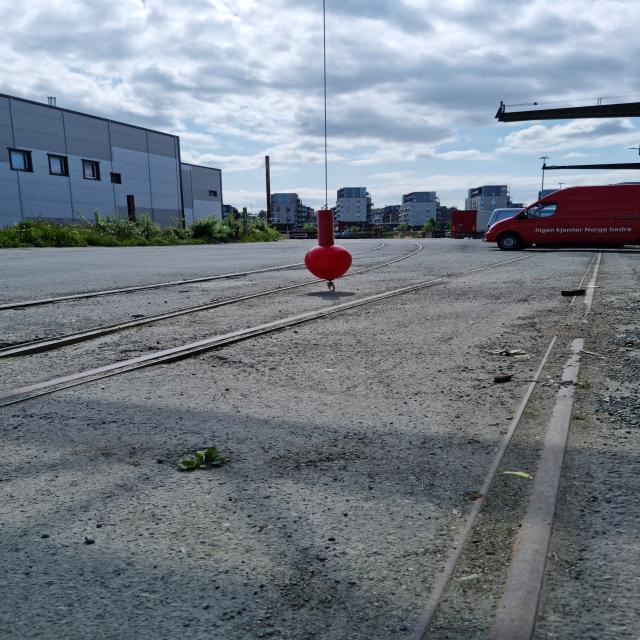red: (306, 210, 352, 279)
